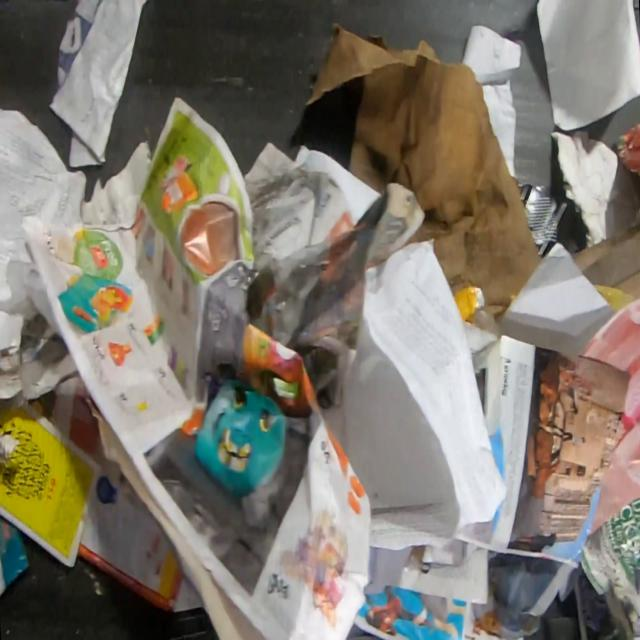cardboard: (49, 372, 202, 614), (193, 378, 286, 498), (570, 220, 640, 300)
